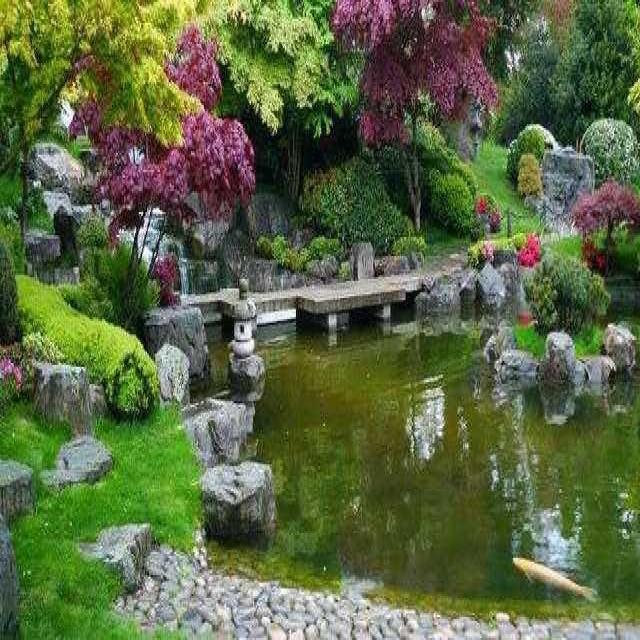Ponds: (132, 196, 640, 640)
